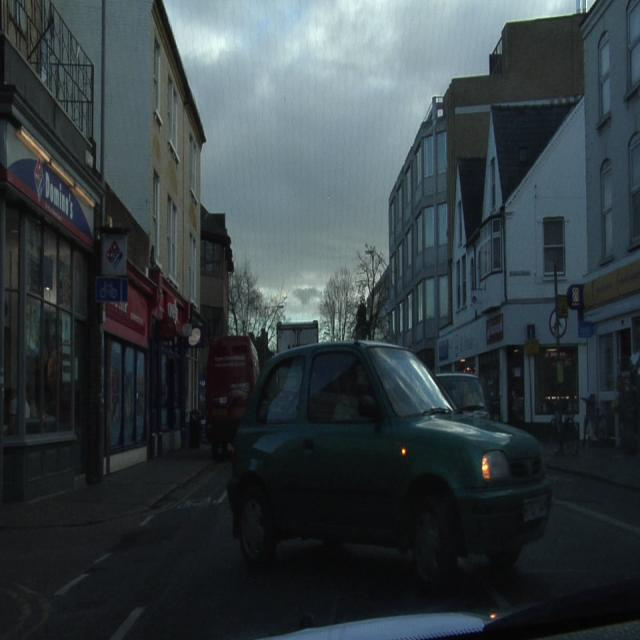Building: (2, 3, 229, 499), (386, 7, 639, 442)
Car: (229, 341, 548, 606)
Road: (9, 467, 631, 636)
Tree: (319, 245, 389, 341), (230, 258, 286, 350)
